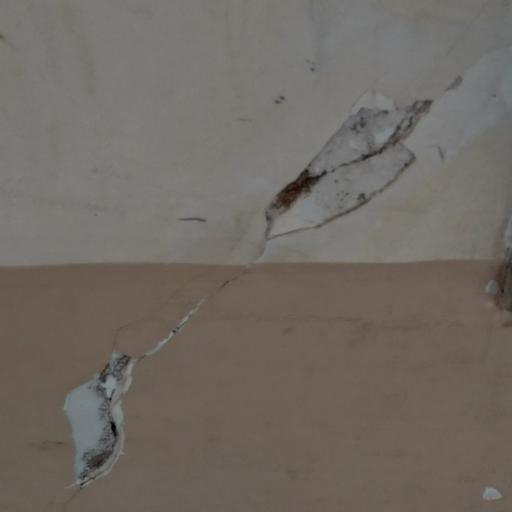major_crack: (241, 31, 471, 330), (19, 298, 184, 494)
